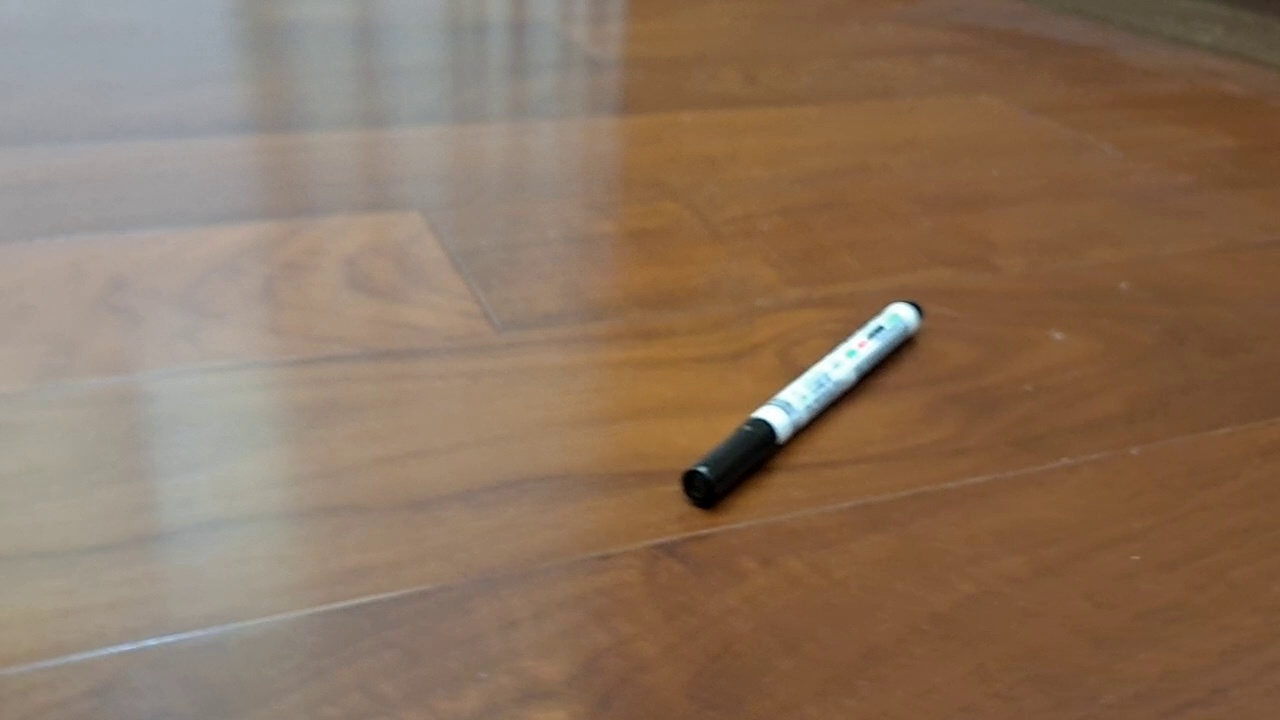pen: (682, 299, 925, 510)
